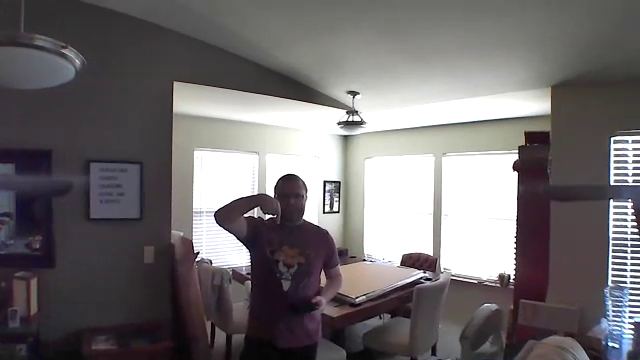down: (255, 189, 288, 228)
